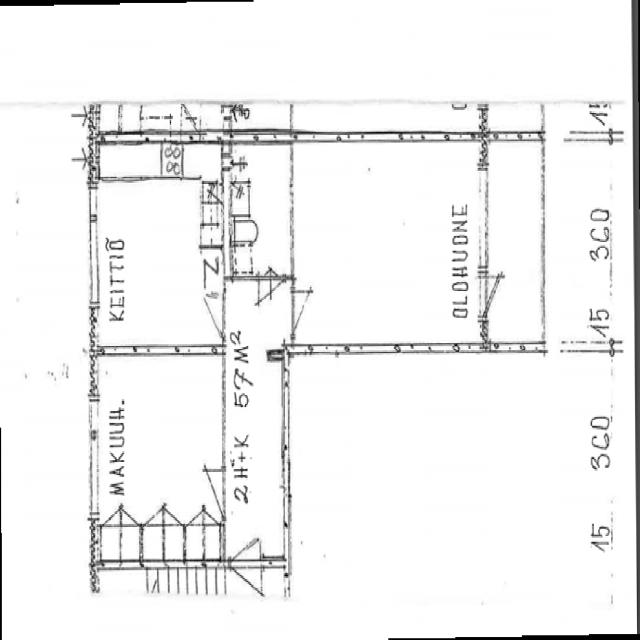door: (227, 545, 265, 591), (589, 99, 612, 141)
window: (84, 401, 105, 521), (85, 198, 103, 309), (278, 371, 293, 451)
zone: (291, 134, 613, 348), (218, 137, 294, 562), (93, 133, 219, 353), (94, 352, 225, 562), (224, 351, 288, 559)
